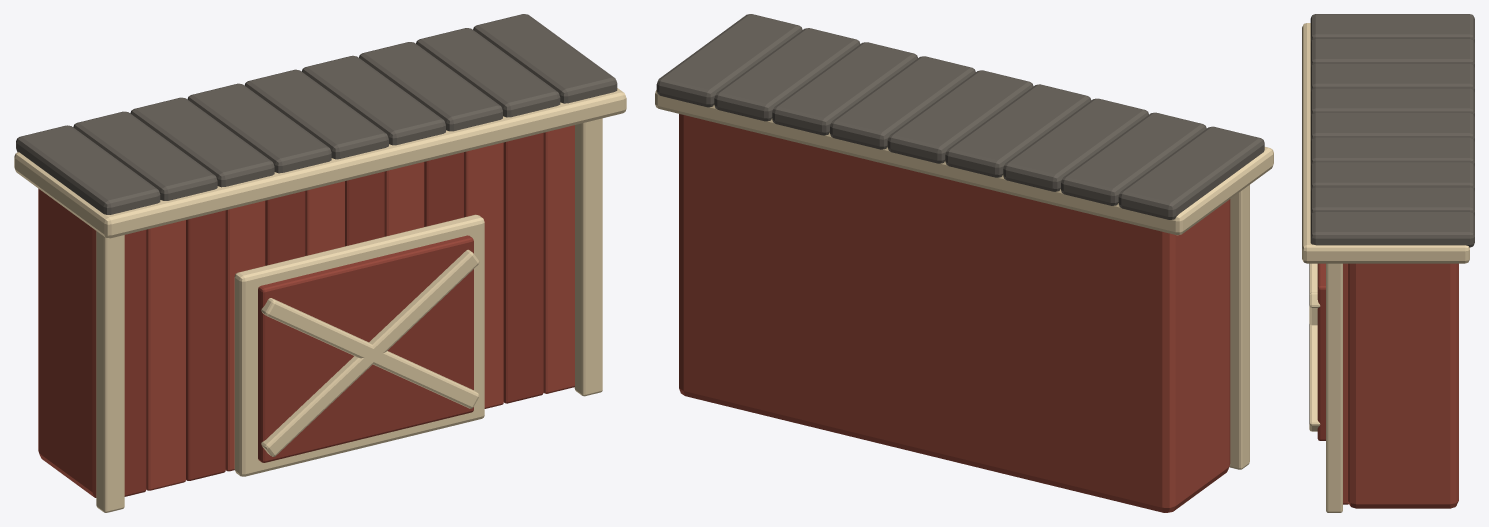
File: Yard_Barn_Fragment.fbx
The picture shows the model from 3 angles, left to right: view 1: azimuth 30°, elevation 25°; view 2: azimuth 150°, elevation 25°; view 3: azimuth 270°, elevation 25°; orthographic projection. The views are drawn at different scales.
Parts seen in each view (by area): view 1: Body; view 2: Body; view 3: Body.
Boxes of the visible parts, box(x1,y1,x2,y2) form: Body: box(14, 14, 626, 512); Body: box(655, 14, 1273, 512); Body: box(1302, 14, 1474, 512).
Bounding box in the file's own units: 2.64 × 1.54 × 0.854.
